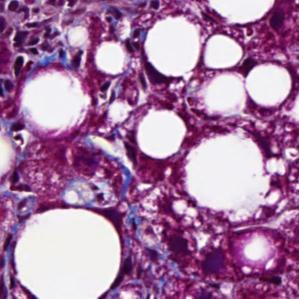inflammation: (9, 17, 67, 53), (2, 47, 33, 84)
